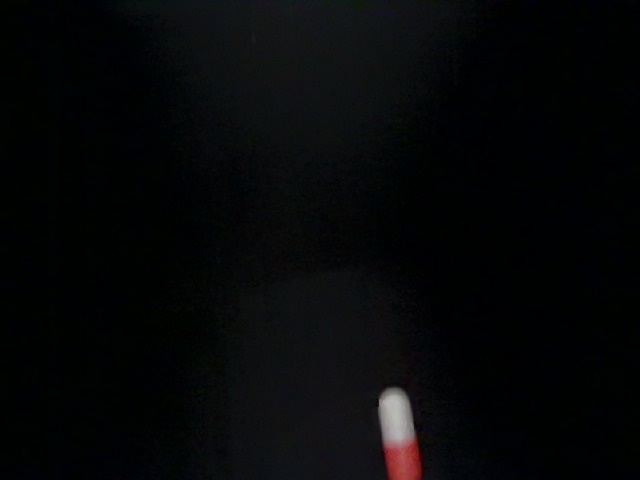YHLJ: (410, 232, 552, 296)
